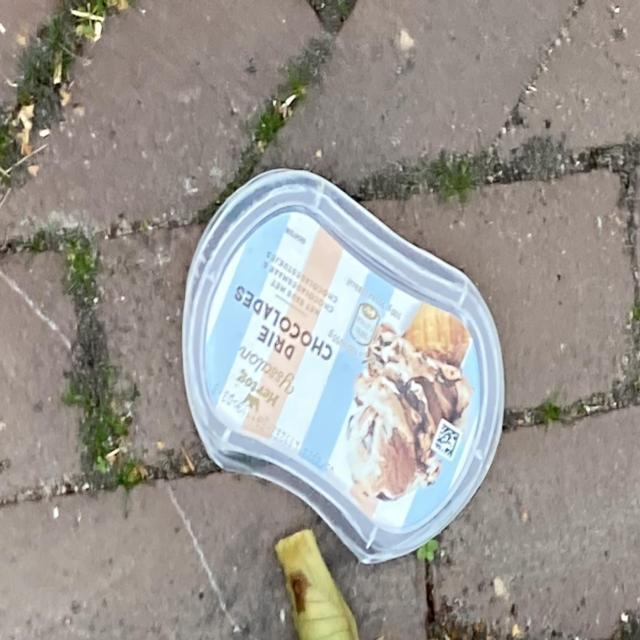Paper: (180, 162, 506, 568)
